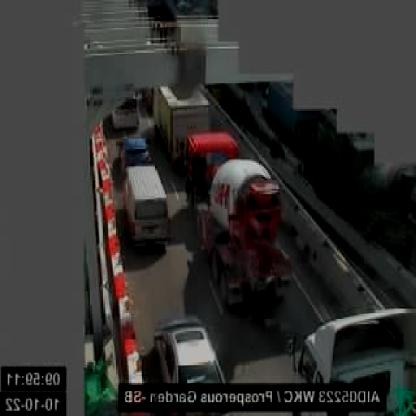Car: (153, 314, 231, 406), (122, 164, 173, 252), (121, 135, 151, 166)
Truck: (188, 135, 289, 313), (146, 86, 209, 165)
